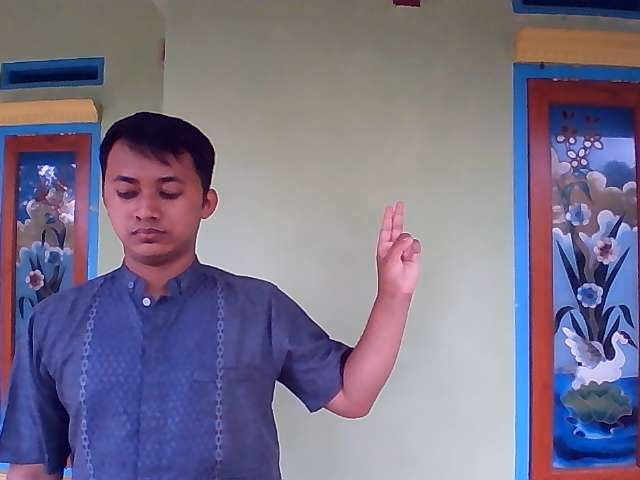U: (371, 198, 423, 314)
